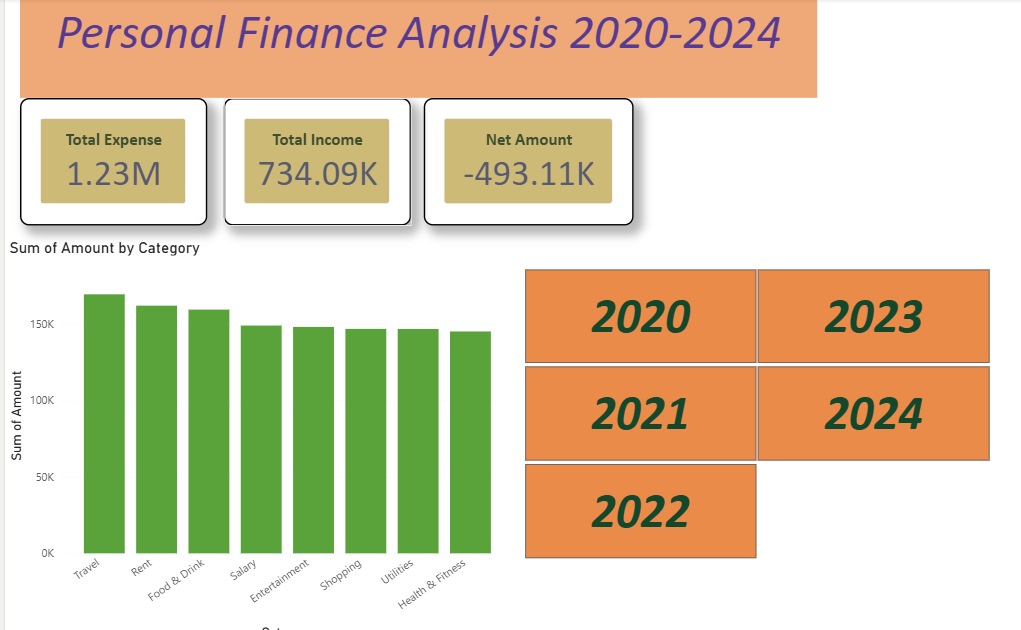

The dashboard page shown, as its layout file describes it:
{"tool":"powerbi","page":{"name":"Page 1","canvas":[1280,720],"ordinal":0},"visuals":[{"type":"columnChart","fields":{"Y":["Sum(Personal_Finance_Dataset.Amount)"],"Category":["Personal_Finance_Dataset.Category"]},"box":[0,263.5,562.6,446],"z":0},{"type":"cardVisual","fields":{"Data":["Sum(Personal_Finance_Dataset.Amount)"]},"box":[16.5,109.8,205.8,140],"z":1000},{"type":"slicer","fields":{"Values":["Personal_Finance_Dataset.Date.Variation.Date Hierarchy.Year"]},"box":[544.8,290.9,559.9,330.7],"z":2000},{"type":"cardVisual","fields":{"Data":["Sum(Personal_Finance_Dataset.Amount)"]},"box":[240.1,109.8,205.8,140],"z":3000},{"type":"cardVisual","fields":{"Data":["Personal_Finance_Dataset.Net Amount"]},"box":[459.7,109.8,230.5,140],"z":4000},{"type":"textbox","box":[16.5,0,875.5,109.8],"z":6000}]}

Visuals, with their boxes on the page's 1280x720 design canvas (x1, y1, x2, y2). These are canvas units, not pixel positions in the 1021x630 screenshot, which may show the page scaled, cropped or inside an application window:
columnChart - Sum(Personal_Finance_Dataset.Amount) x Personal_Finance_Dataset.Category: l=0, t=264, r=563, b=710
cardVisual - Sum(Personal_Finance_Dataset.Amount): l=16, t=110, r=222, b=250
slicer - Personal_Finance_Dataset.Date.Variation.Date Hierarchy.Year: l=545, t=291, r=1105, b=622
cardVisual - Sum(Personal_Finance_Dataset.Amount): l=240, t=110, r=446, b=250
cardVisual - Personal_Finance_Dataset.Net Amount: l=460, t=110, r=690, b=250
textbox: l=16, t=0, r=892, b=110
